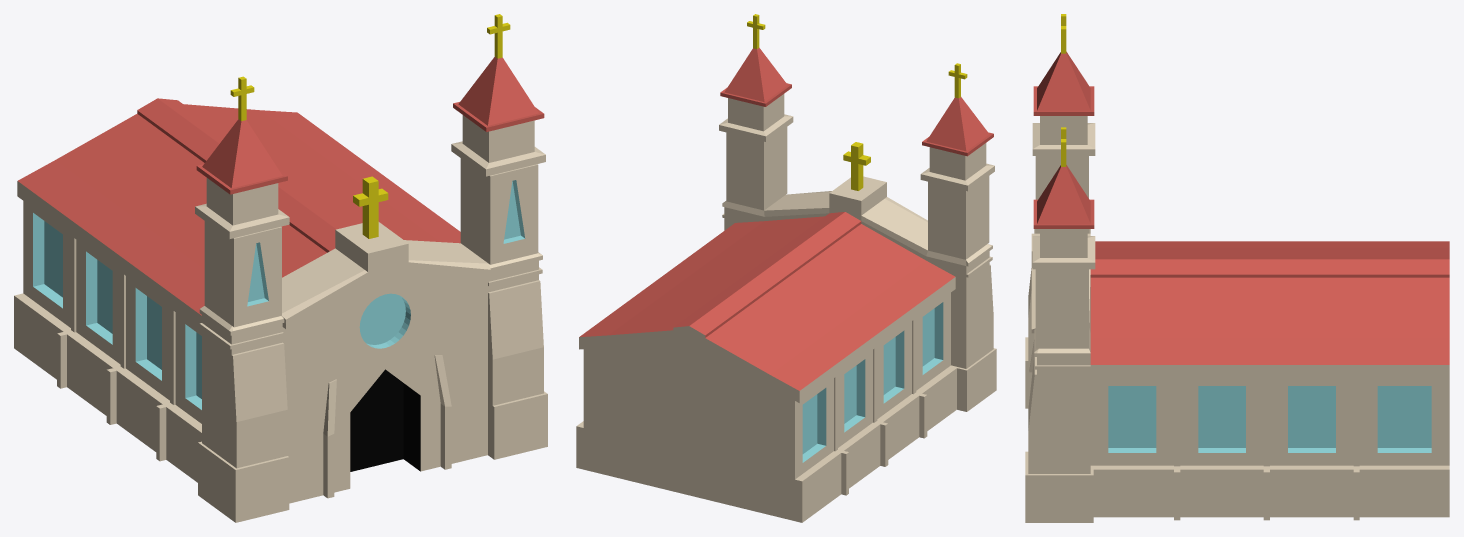
Rendered from church.fbx.
3 renders of one model, left to right at view 1: azimuth 30°, elevation 25°; view 2: azimuth 150°, elevation 25°; view 3: azimuth 270°, elevation 25°, orthographic. The views are drawn at different scales.
Parts seen in each view (by area): view 1: chruhc'; view 2: chruhc'; view 3: chruhc'.
Part boxes in pixels (<box>): chruhc': <box>14,14,547,522</box>; chruhc': <box>576,14,996,522</box>; chruhc': <box>1025,14,1449,522</box>.
Size of the model in its own units: 1234 by 1584 by 1576.
